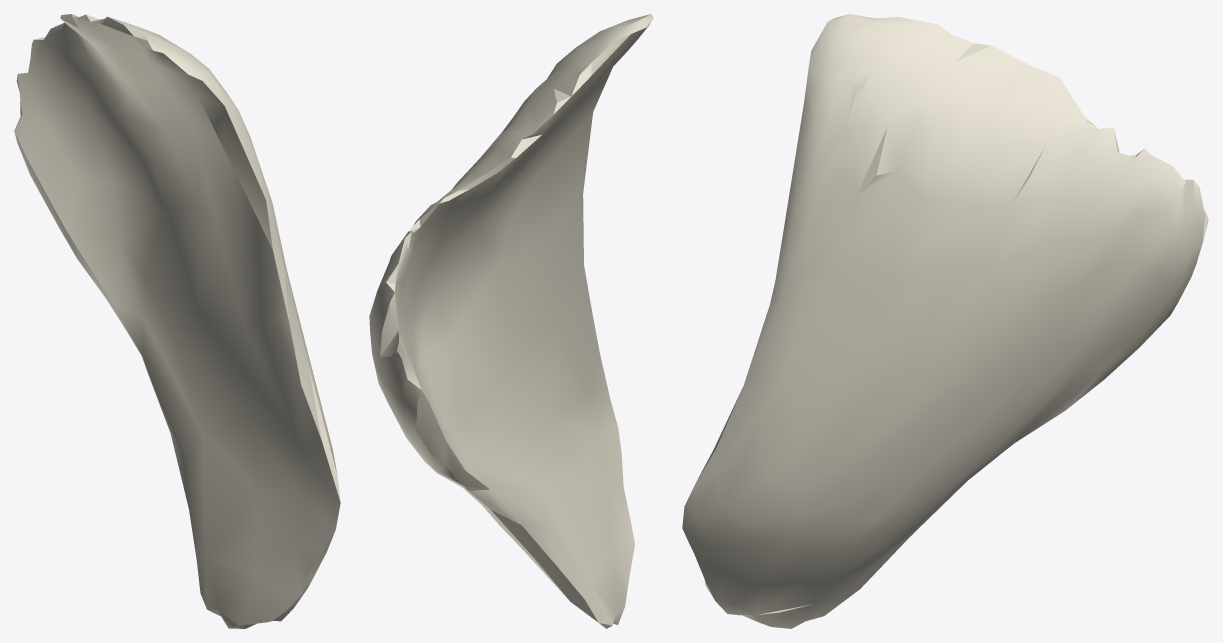
File: fma321712-r_mm1473m.glb
3 views of the same model, side by side, from view 1: azimuth 30°, elevation 25°; view 2: azimuth 150°, elevation 25°; view 3: azimuth 270°, elevation 25° (orthographic). The views are drawn at different scales.
Visible parts, largest first — view 1: FMA321712-R_MM1473M; view 2: FMA321712-R_MM1473M; view 3: FMA321712-R_MM1473M.
Part boxes in pixels (box(x1,y1,x2,y2)): FMA321712-R_MM1473M: box(14, 14, 340, 628); FMA321712-R_MM1473M: box(369, 14, 653, 628); FMA321712-R_MM1473M: box(682, 14, 1208, 628).
Bounding box in the file's own units: 0.00373 × 0.0153 × 0.0124.
